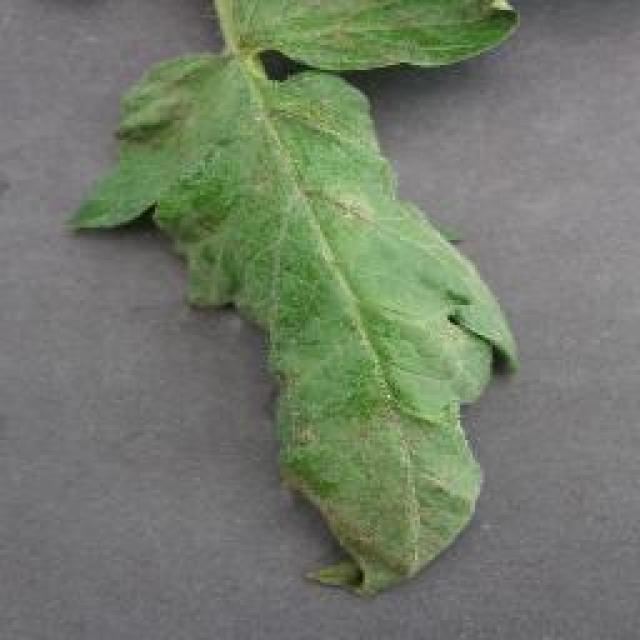Tomato Late Blight: (113, 55, 412, 443)
